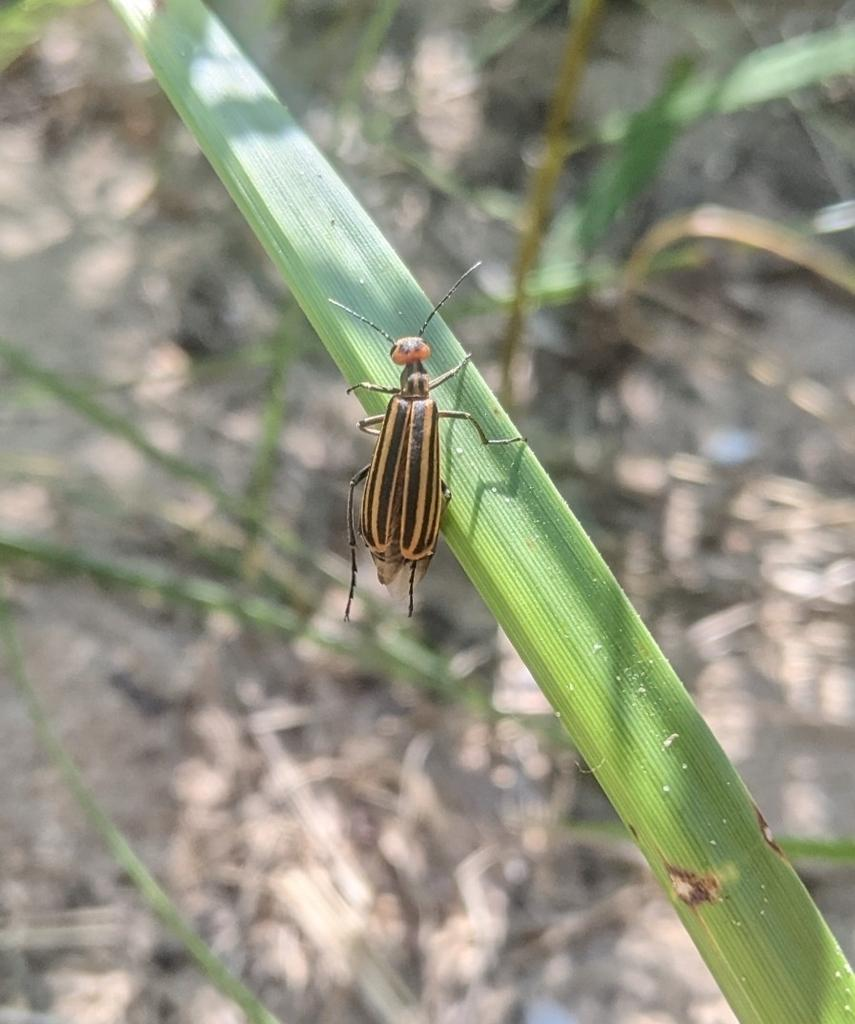blister_beetle: (267, 232, 579, 660)
